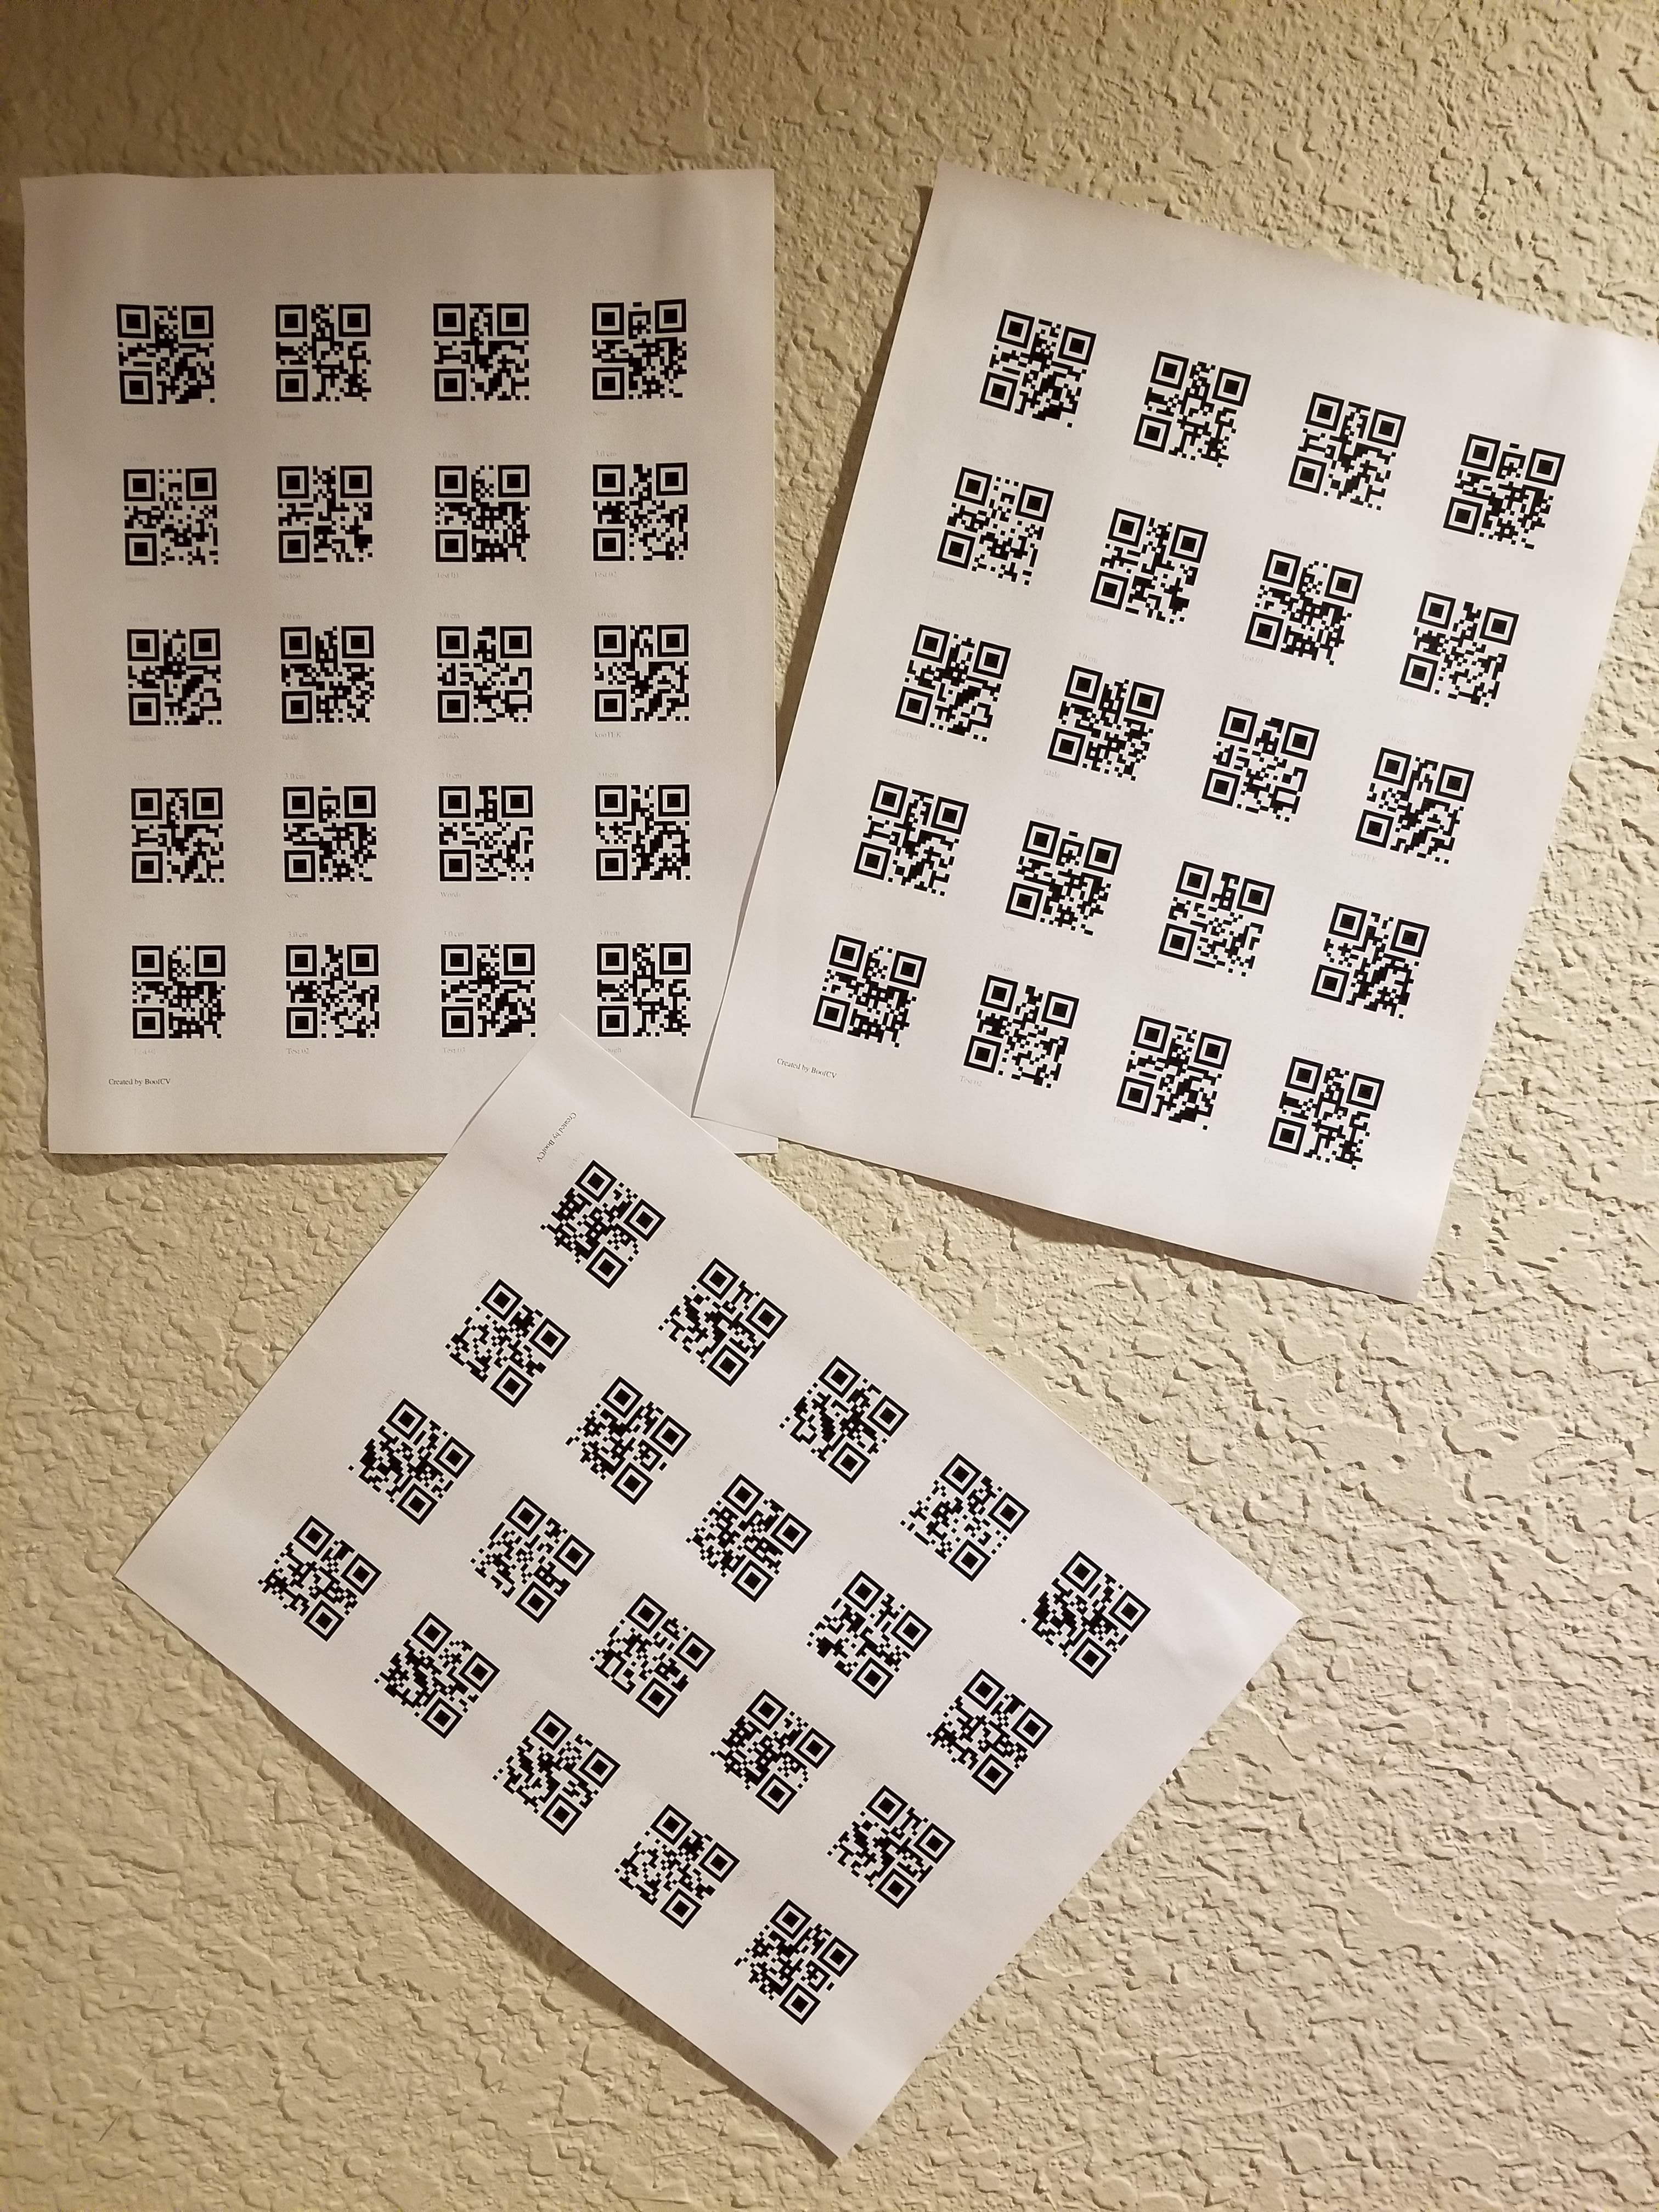QR_CODE: (953, 268, 1110, 441), (1378, 563, 1535, 733), (523, 1127, 678, 1298), (1338, 721, 1499, 881), (80, 263, 237, 427), (340, 1369, 488, 1538), (1424, 406, 1586, 557), (240, 1486, 389, 1651), (1267, 364, 1415, 524), (429, 1252, 575, 1414), (864, 597, 1012, 756), (253, 254, 389, 427), (720, 1878, 864, 2040), (821, 758, 976, 907), (601, 1787, 749, 1944), (1255, 1042, 1401, 1200), (1028, 639, 1173, 798), (770, 1339, 918, 1491), (1018, 1538, 1166, 1689), (775, 923, 934, 1062), (1138, 836, 1279, 991), (586, 1583, 732, 1731), (793, 1561, 941, 1707), (674, 1465, 824, 1609), (824, 1775, 969, 1925), (648, 1247, 791, 1399), (1066, 491, 1213, 637), (983, 798, 1131, 942), (918, 442, 1061, 592), (1227, 524, 1366, 678), (948, 956, 1093, 1103), (894, 1446, 1040, 1590), (558, 1369, 702, 1515), (368, 1601, 507, 1752), (924, 1655, 1065, 1803), (1101, 998, 1243, 1144), (1190, 683, 1328, 833), (1115, 329, 1256, 474), (483, 1705, 627, 1846), (573, 253, 699, 415), (416, 772, 561, 911), (708, 1677, 843, 1825), (105, 765, 249, 902), (1300, 894, 1445, 1031), (256, 913, 389, 1062), (462, 1489, 603, 1629), (416, 265, 544, 418), (573, 921, 713, 1061), (410, 441, 547, 580), (422, 601, 559, 740), (105, 913, 242, 1050), (253, 441, 389, 580), (572, 442, 708, 582), (101, 601, 235, 742), (579, 763, 713, 902), (416, 925, 552, 1061), (258, 758, 390, 897), (582, 597, 708, 740), (260, 604, 396, 735), (105, 432, 227, 575)
